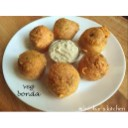bonda: (49, 63, 80, 99), (81, 51, 109, 82), (80, 25, 111, 52), (19, 50, 46, 78), (55, 16, 80, 39), (30, 25, 54, 47)
